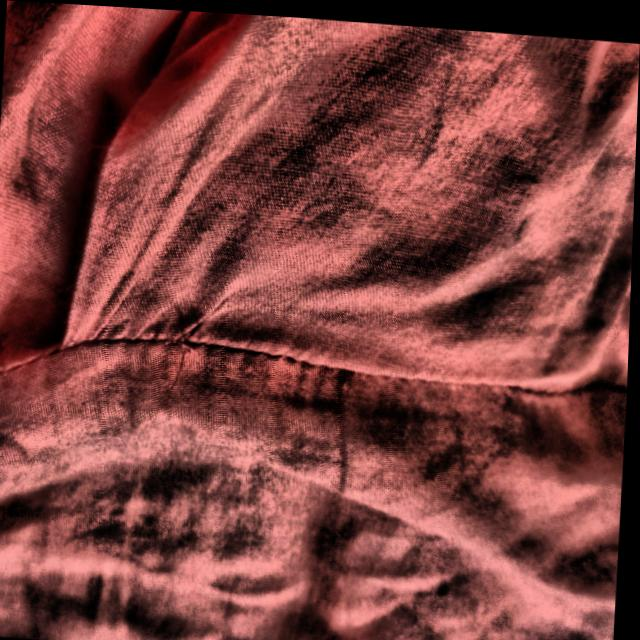Stitch: (93, 261, 247, 411)
